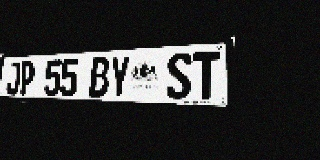5: (60, 58, 79, 96), (44, 59, 62, 96)
B: (89, 57, 110, 97)
J: (6, 62, 21, 95)
P: (19, 61, 35, 95)
S: (166, 52, 192, 99)
T: (192, 51, 220, 100)
Y: (108, 56, 130, 98)
